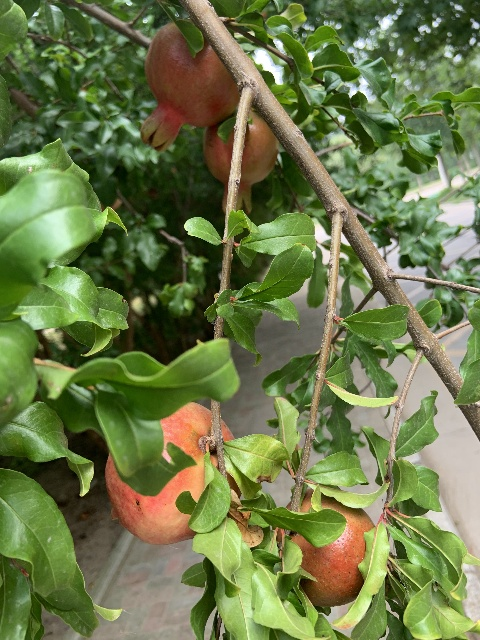ripe: (103, 401, 235, 543), (139, 20, 239, 151), (277, 487, 374, 606), (203, 109, 278, 214)
